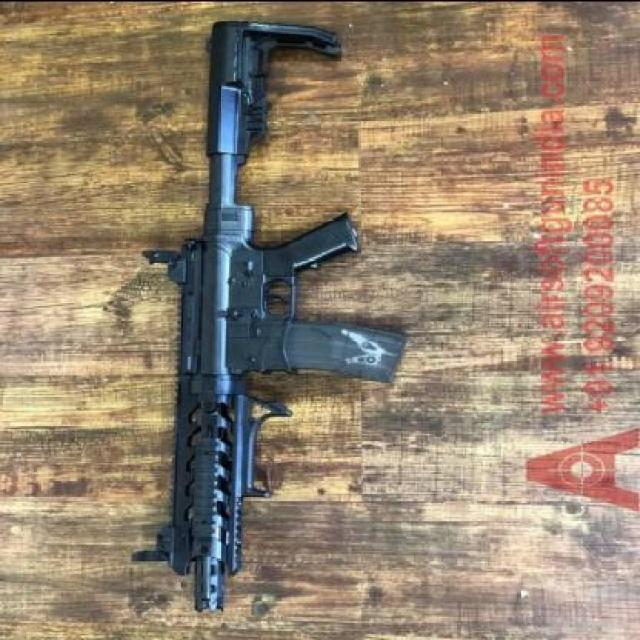weapon: (128, 21, 406, 622)
